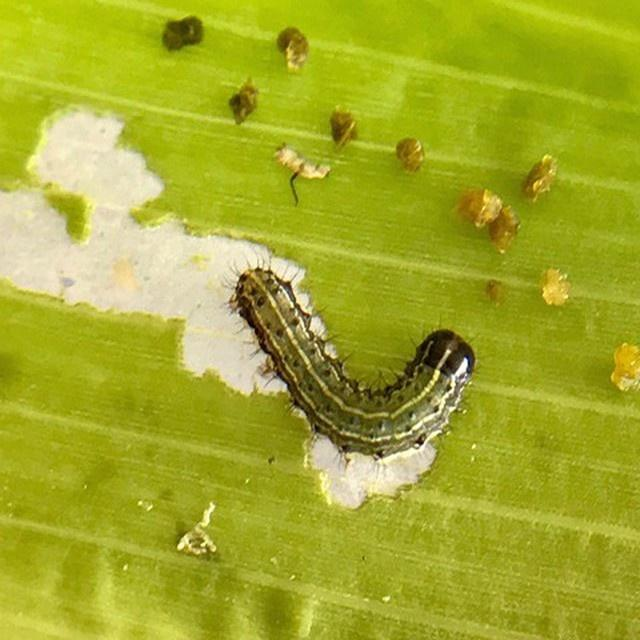gusano_cogollero: (225, 255, 478, 461)
